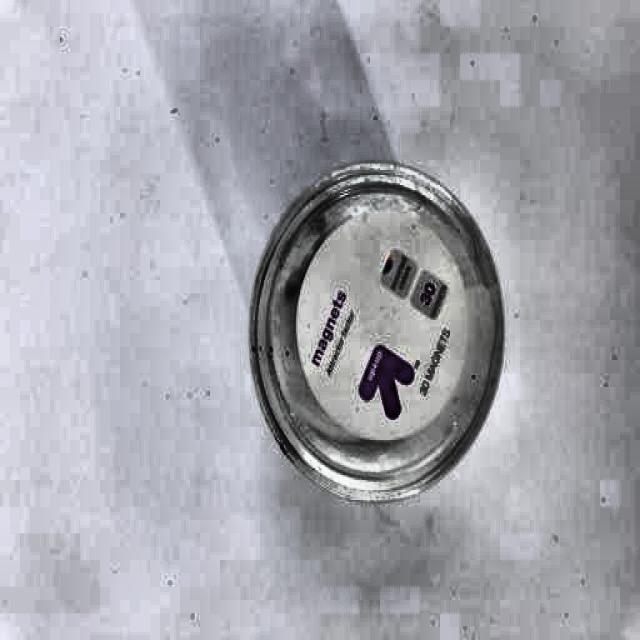plastic: (249, 162, 505, 507)
